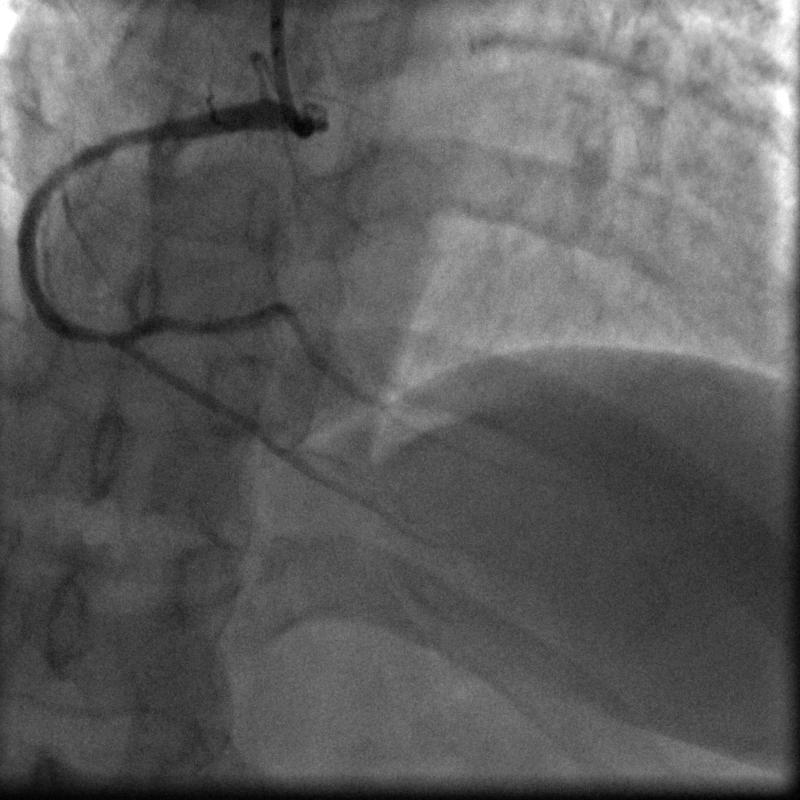Stenosis: (91, 324, 112, 355)
